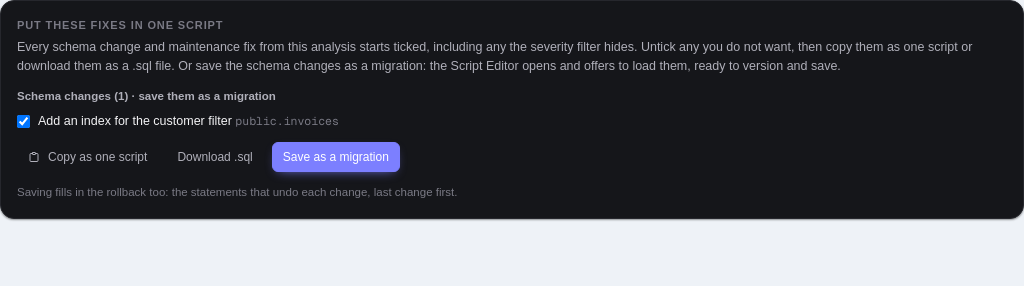
what Save hands to the Script Editor › says so and stays put when the browser blocks site storage
Click the button "Save as a migration".
click(336, 157)  # box top-left (272, 142), bottom-right (400, 172)
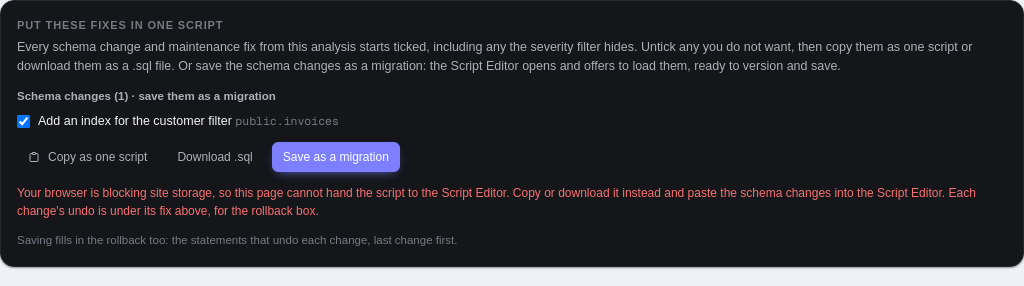
Check: the text "Your browser is blocking site storage" is shown, box top-left (17, 186), bottom-right (740, 200)
